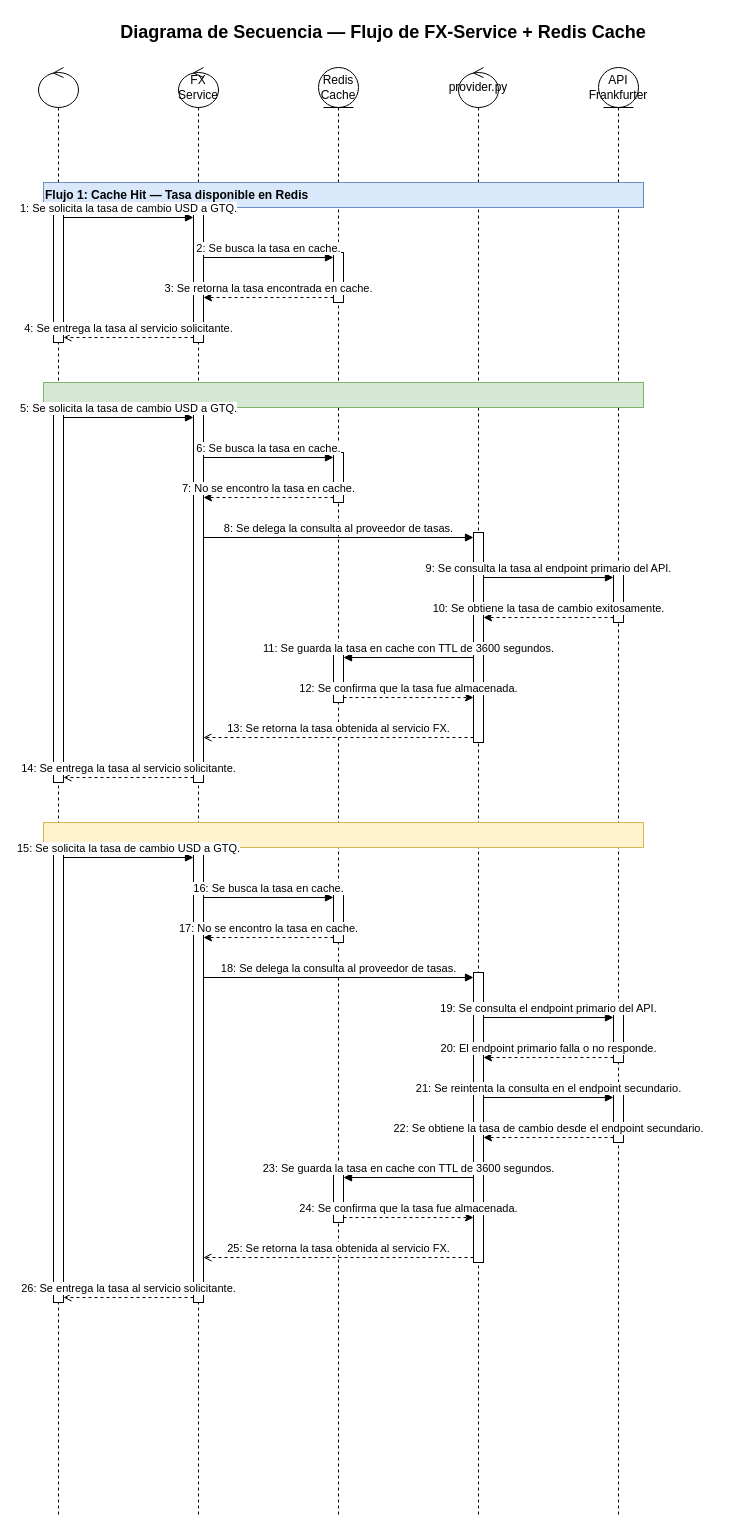
Some shapes in this 751 by 1535 pixel diagram are drawn without their labels. The shapes that lost their labels are listed below. From the top down, each one's centre as x and y in pixels, then its label:
At point 343,395: "Flujo 2: Cache Miss — Consulta exitosa al endpoint primario".
At point 58,792: "Subscription Service".
At point 343,835: "Flujo 3: Cache Miss — Fallback al endpoint secundario".
